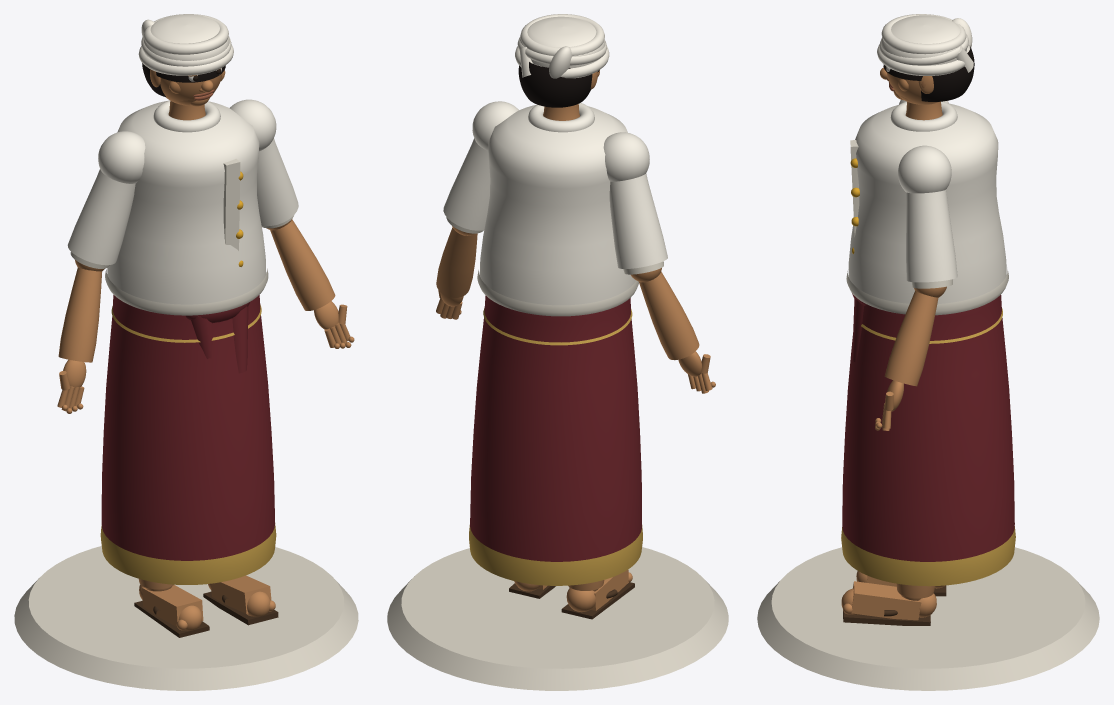
File: myanmar_man.glb
3 views of the same model, side by side, from view 1: azimuth 30°, elevation 25°; view 2: azimuth 150°, elevation 25°; view 3: azimuth 270°, elevation 25° (orthographic).
Visible parts, largest first — view 1: STATIC_paso_silk, STATIC_taikpon_jacket, STATIC_base_stone, STATIC_skin, STATIC_gaung_baung, STATIC_paso_stripe, STATIC_taikpon_shade, STATIC_sandal_leather, STATIC_hair; view 2: STATIC_paso_silk, STATIC_taikpon_jacket, STATIC_base_stone, STATIC_skin, STATIC_gaung_baung, STATIC_paso_stripe, STATIC_taikpon_shade, STATIC_hair, STATIC_sandal_leather; view 3: STATIC_paso_silk, STATIC_base_stone, STATIC_taikpon_jacket, STATIC_skin, STATIC_gaung_baung, STATIC_paso_stripe, STATIC_taikpon_shade, STATIC_hair, STATIC_sandal_leather.
Part boxes in pixels (<box>): STATIC_paso_silk: <box>101,295,274,560</box>; STATIC_taikpon_jacket: <box>67,99,298,304</box>; STATIC_base_stone: <box>14,546,358,690</box>; STATIC_skin: <box>57,68,354,630</box>; STATIC_gaung_baung: <box>138,14,233,75</box>; STATIC_paso_stripe: <box>100,305,276,584</box>; STATIC_taikpon_shade: <box>70,158,293,315</box>; STATIC_sandal_leather: <box>134,591,278,637</box>; STATIC_hair: <box>142,63,225,96</box>; STATIC_paso_silk: <box>470,295,641,561</box>; STATIC_taikpon_jacket: <box>443,101,667,305</box>; STATIC_base_stone: <box>387,547,728,690</box>; STATIC_skin: <box>436,70,715,612</box>; STATIC_gaung_baung: <box>515,14,609,78</box>; STATIC_paso_stripe: <box>469,308,642,585</box>; STATIC_taikpon_shade: <box>446,217,663,316</box>; STATIC_hair: <box>518,62,599,107</box>; STATIC_sandal_leather: <box>509,582,634,619</box>; STATIC_paso_silk: <box>842,293,1014,561</box>; STATIC_base_stone: <box>757,547,1099,690</box>; STATIC_taikpon_jacket: <box>848,100,1006,303</box>; STATIC_skin: <box>841,67,946,620</box>; STATIC_gaung_baung: <box>877,14,973,75</box>; STATIC_paso_stripe: <box>841,308,1015,586</box>; STATIC_taikpon_shade: <box>846,140,1008,315</box>; STATIC_hair: <box>883,46,974,101</box>; STATIC_sandal_leather: <box>843,585,946,625</box>.
Bounding box in the file's own units: 0.96 × 1.83 × 0.96.
